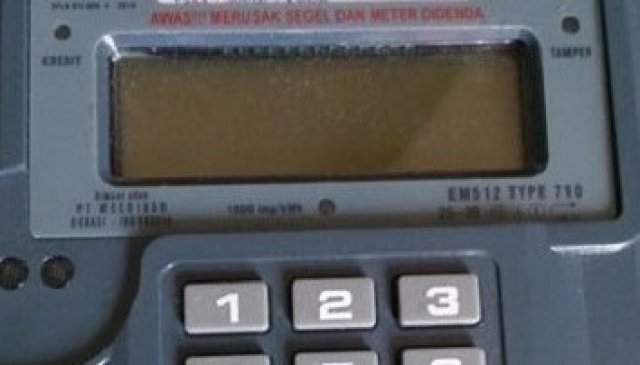box: (110, 47, 541, 178)
